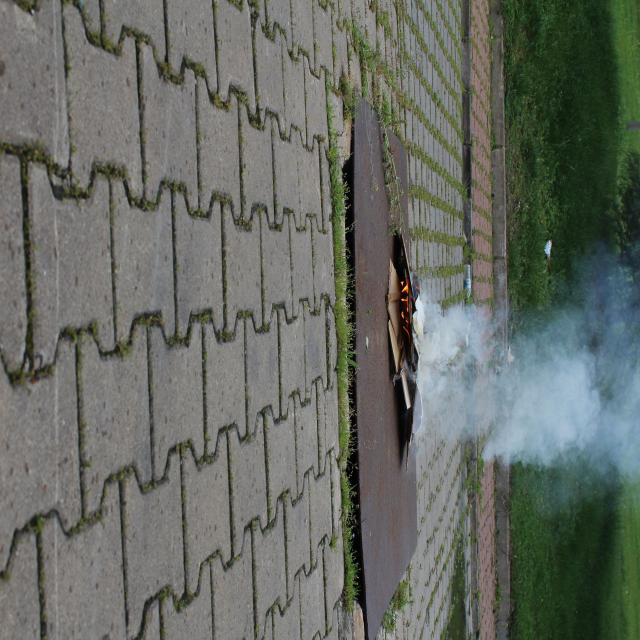fire: (394, 274, 410, 333)
